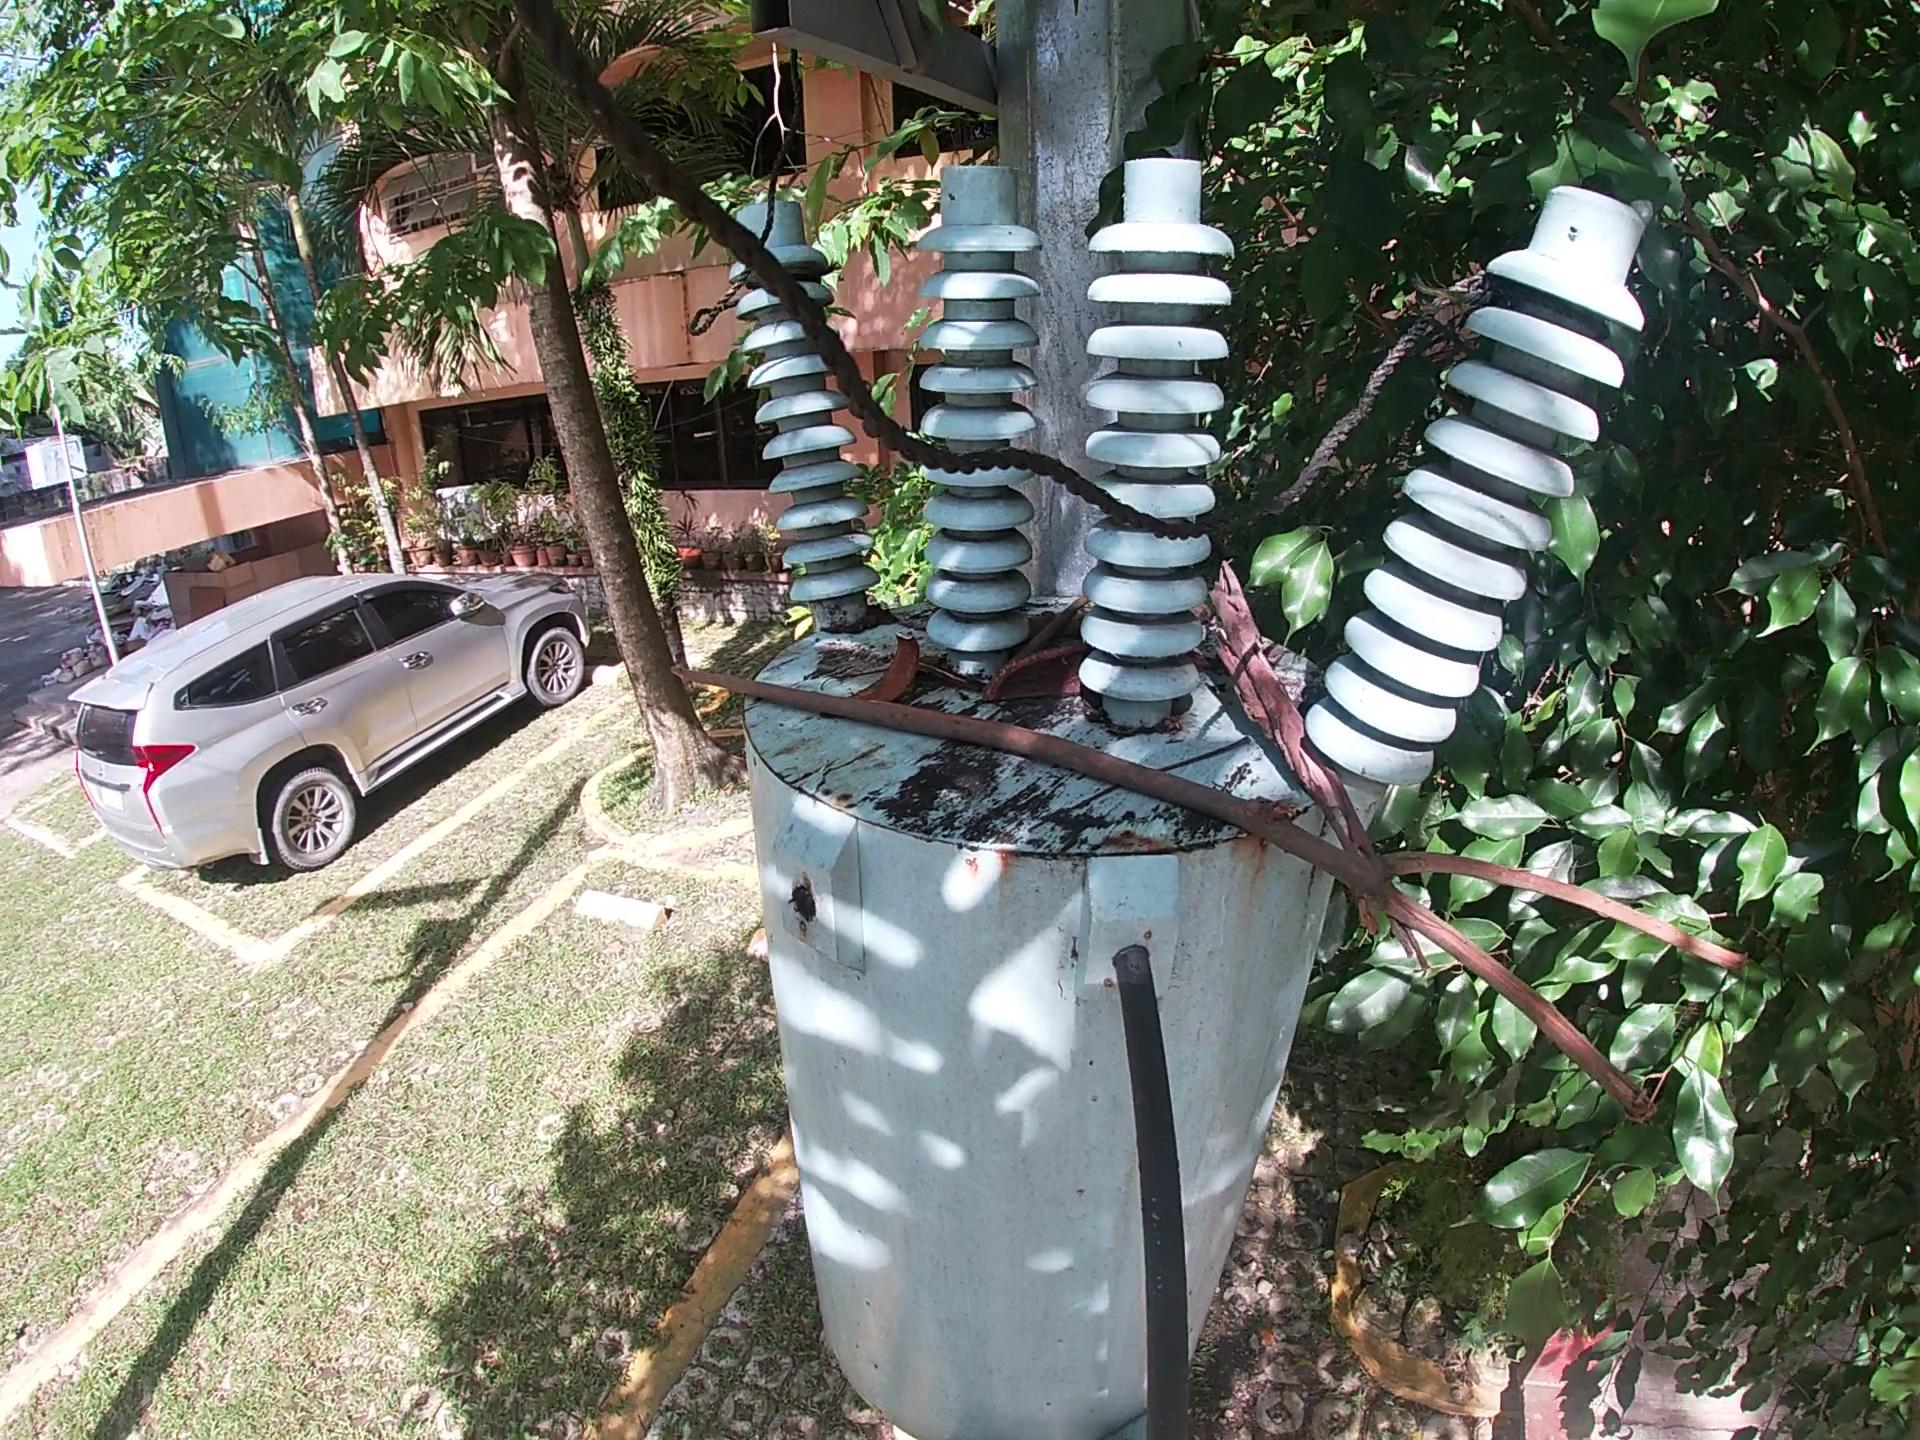mahogany fruit: (977, 646, 1092, 706), (850, 640, 925, 696)
tree branch: (655, 658, 1779, 1156), (1215, 566, 1371, 853), (1020, 735, 1252, 838), (999, 593, 1082, 663), (918, 658, 981, 696)
